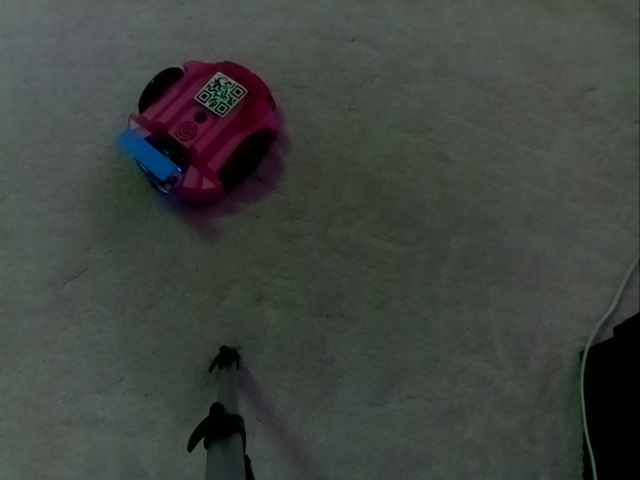chassis: (124, 53, 282, 200)
qr: (196, 69, 247, 117)
